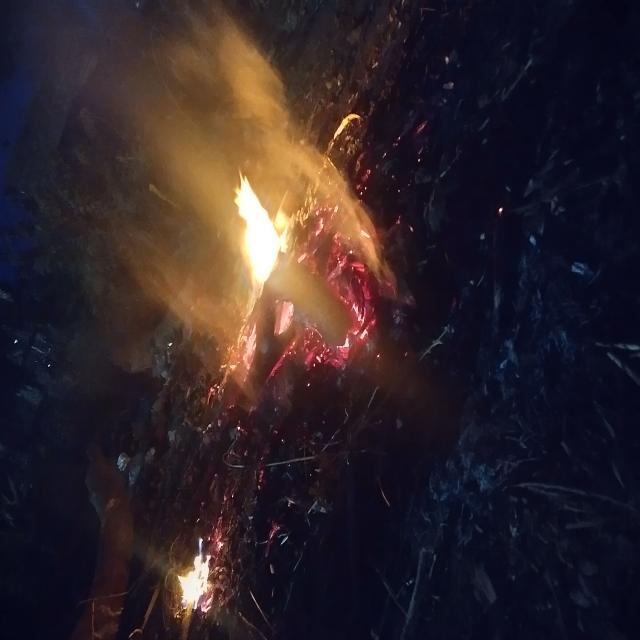Fire: (273, 307, 354, 402), (16, 220, 64, 287)
